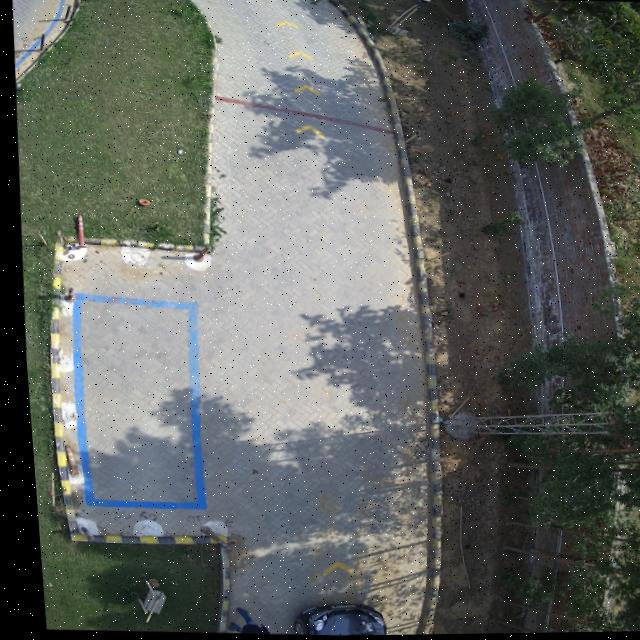car: (282, 605, 374, 636)
